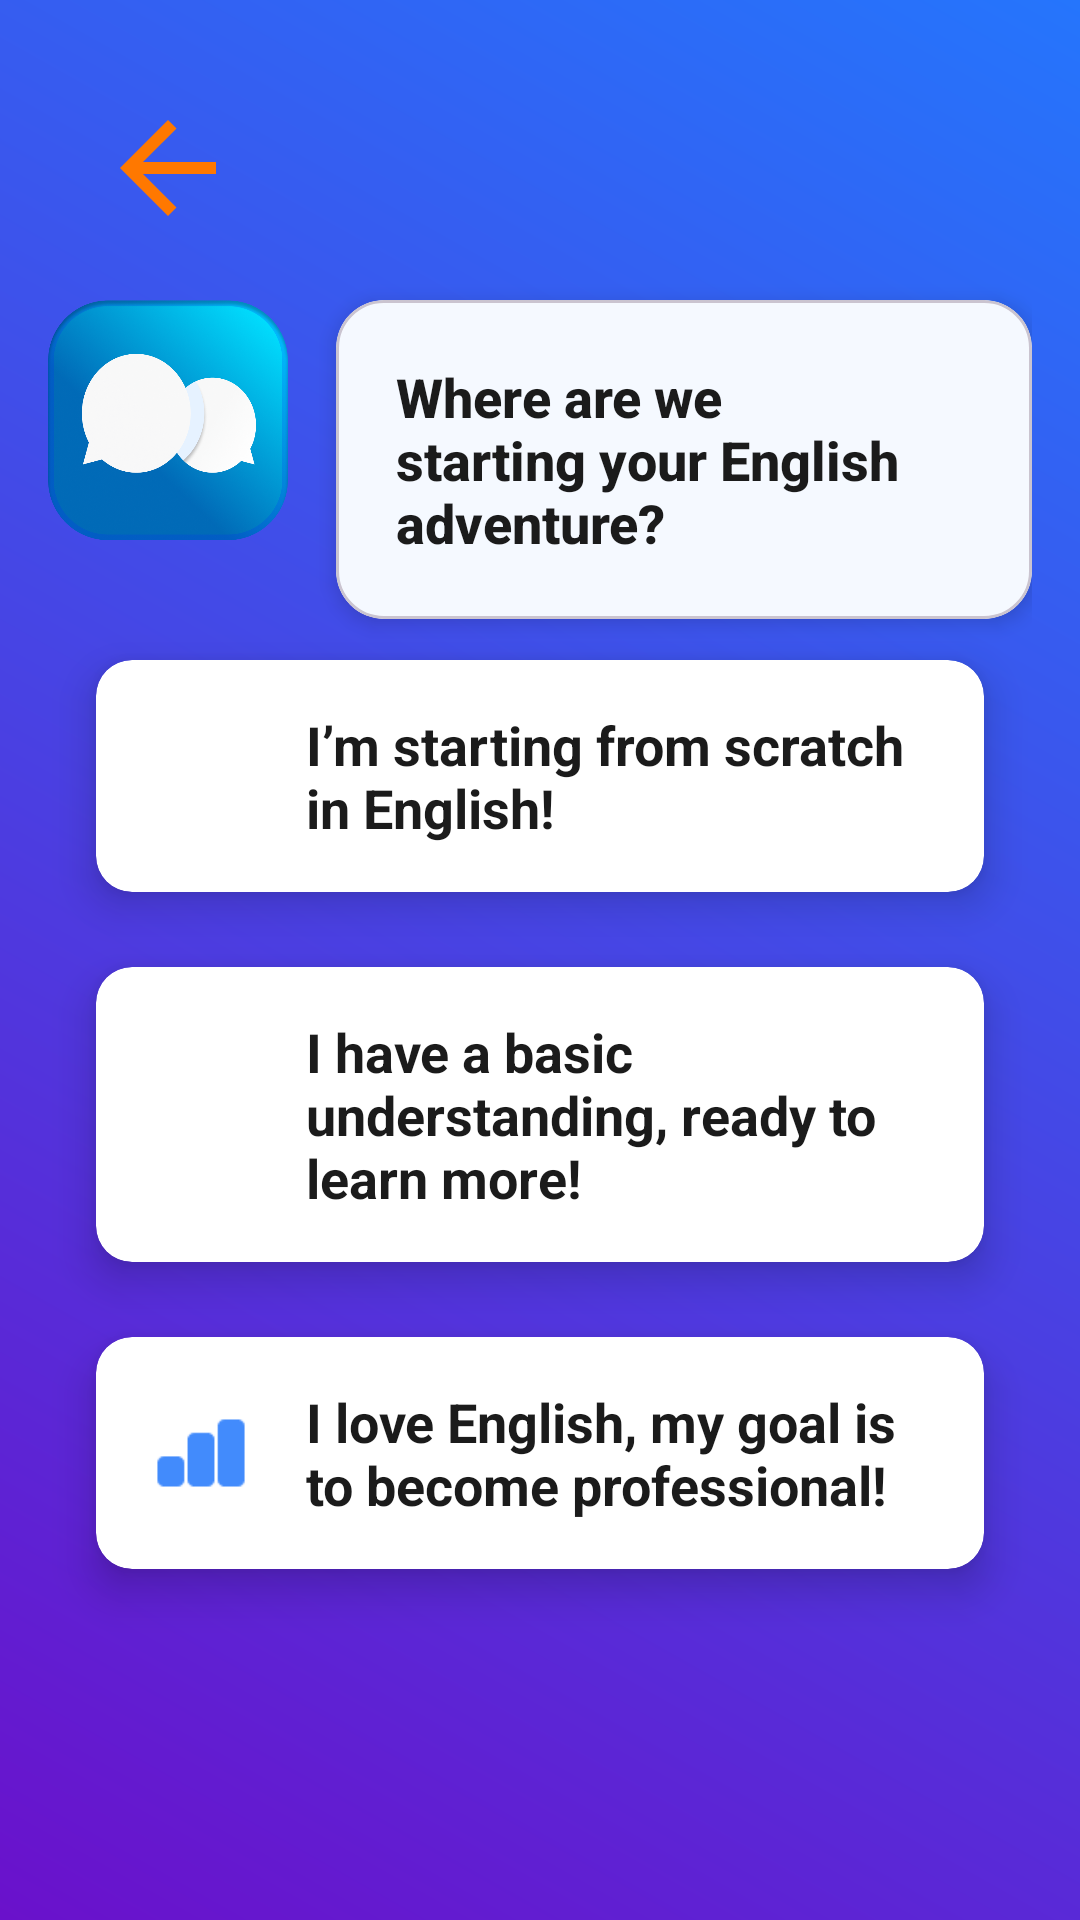

Locate icon controls on the screen. Image size 1080px×1920px, boxes as (x1, y1, x2, y2).
Back Icon: (120, 120, 216, 216)
Hard Level Icon: (157, 1419, 245, 1487)
